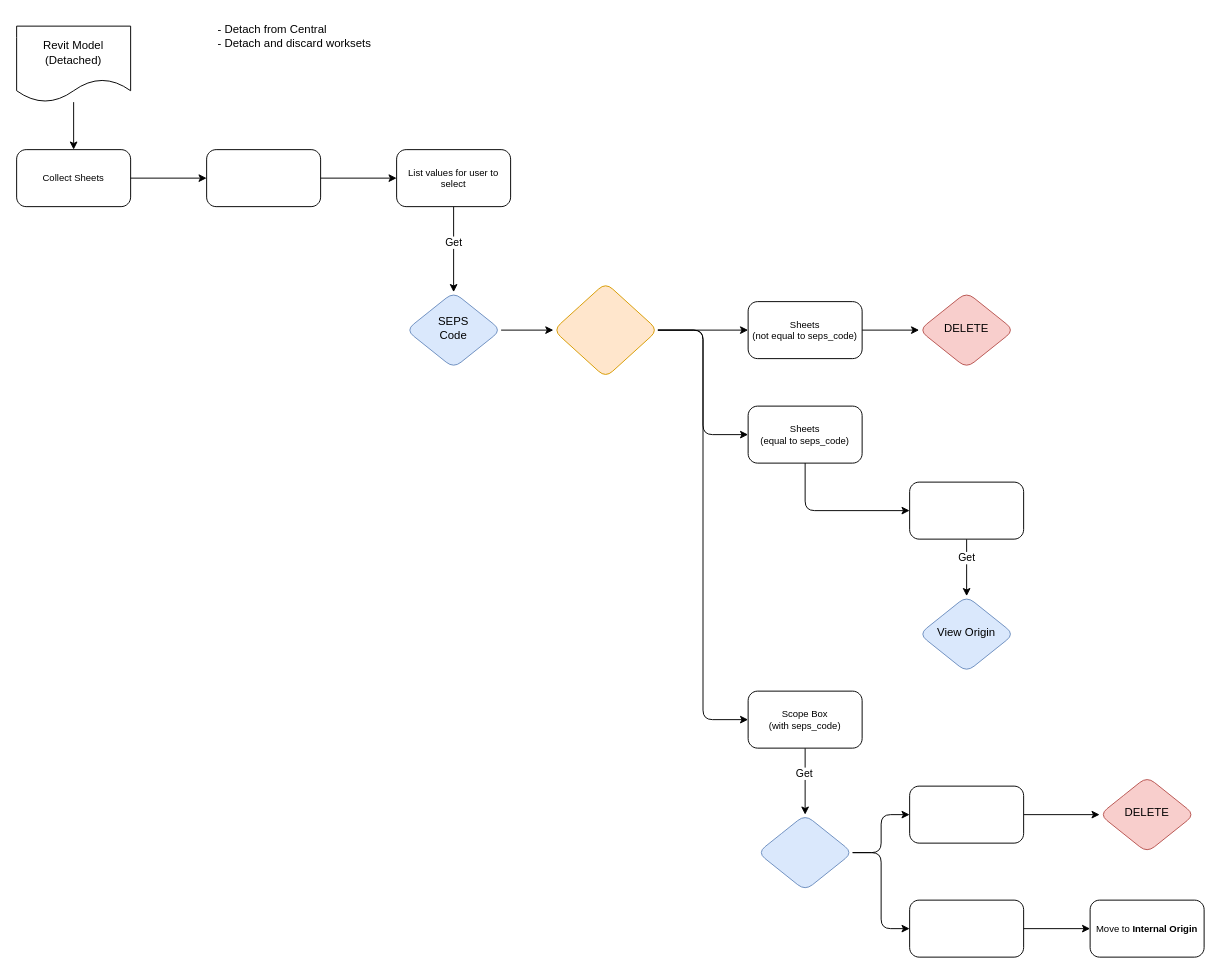
Image size: 1221x974. Some labels were removed from this diagram. Here are the shapes that lost their labels. From the top down, the centre of each, then its label:
the point at 263,178: Get SEPS Code parameter values
the point at 605,330: SaveAs Model
the point at 966,510: Views
the point at 966,814: Elements (outside scope box)
the point at 805,852: Bounding Box
the point at 966,928: Elements (within scope box)
